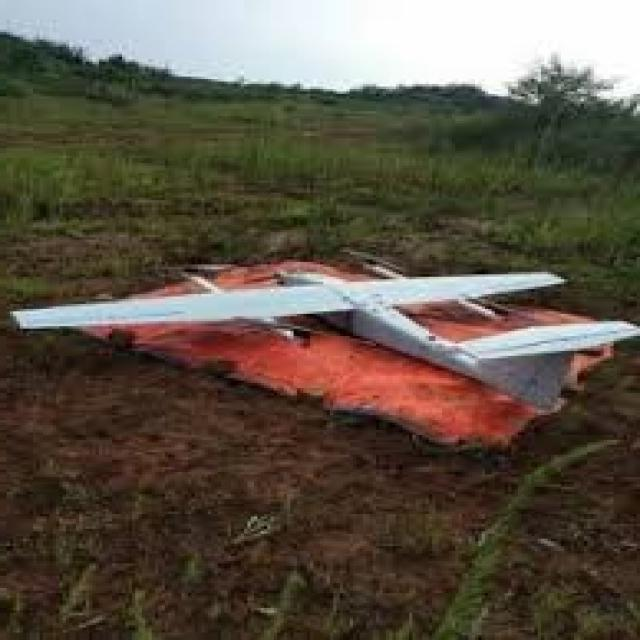UAV: (0, 198, 640, 487)
